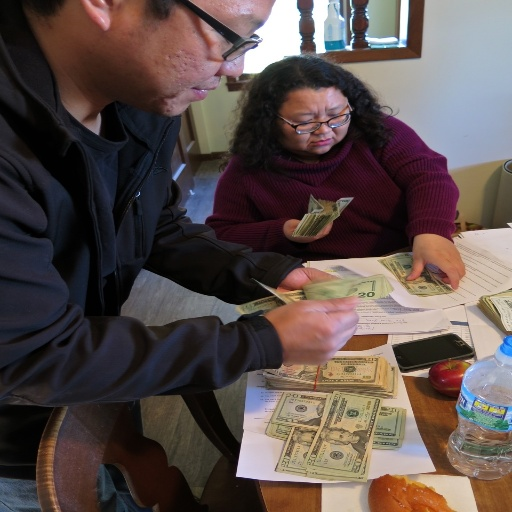hand: (262, 294, 358, 364), (403, 233, 467, 289), (274, 266, 344, 294), (283, 217, 334, 243)
